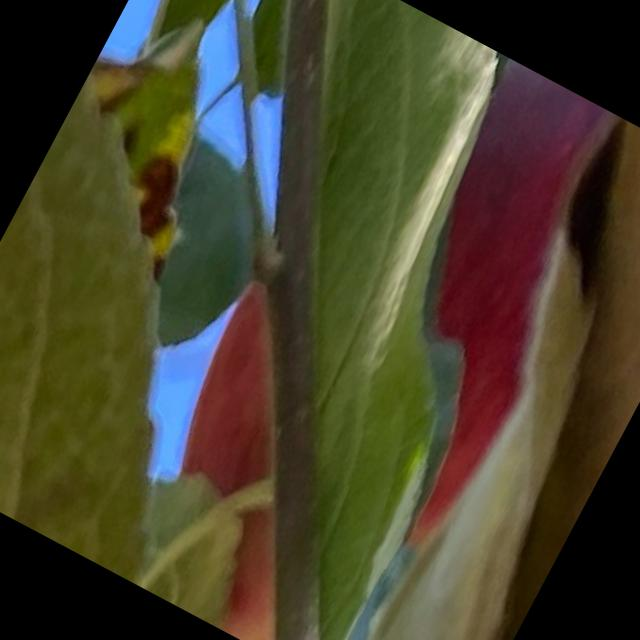Apples: (101, 0, 639, 639)
